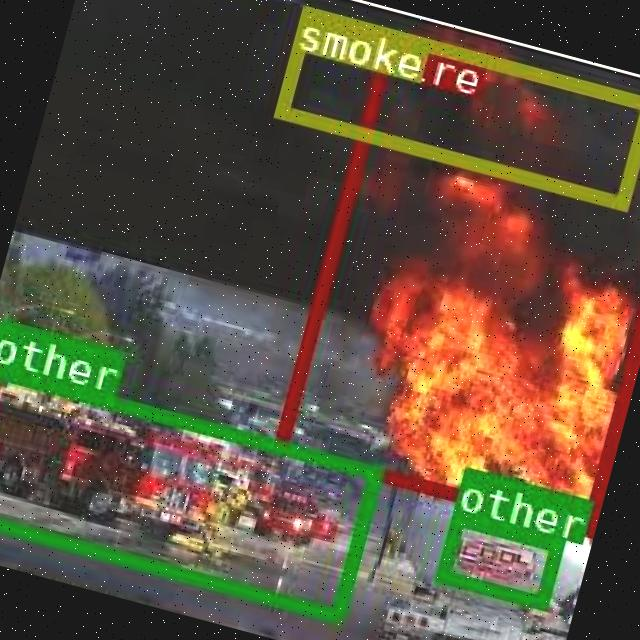fire: (270, 23, 640, 531)
smoke: (271, 3, 640, 208)
